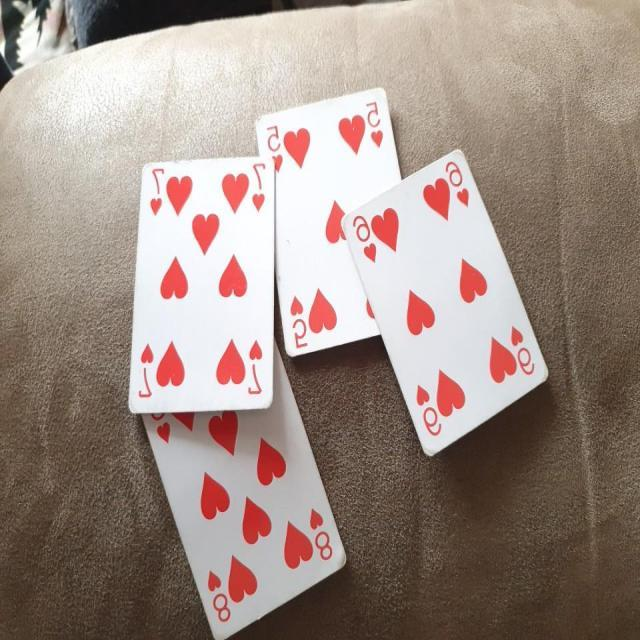5 of hearts: (250, 85, 406, 362)
6 of hearts: (341, 140, 553, 462)
7 of hearts: (118, 151, 283, 422)
8 of hearts: (113, 333, 348, 640)
